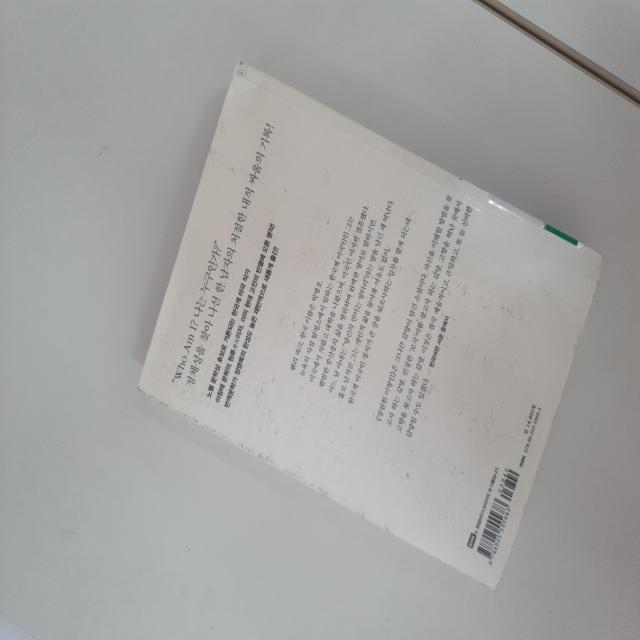Wornout: (236, 441, 275, 466), (136, 383, 171, 408), (530, 445, 547, 496), (316, 482, 347, 507), (283, 465, 315, 488), (591, 253, 605, 301), (201, 424, 235, 443), (545, 404, 560, 447), (560, 361, 574, 402), (573, 321, 587, 359), (504, 530, 518, 568), (481, 574, 504, 594), (350, 504, 369, 523), (376, 521, 395, 540), (177, 410, 200, 424), (522, 497, 531, 518), (227, 72, 235, 89)
